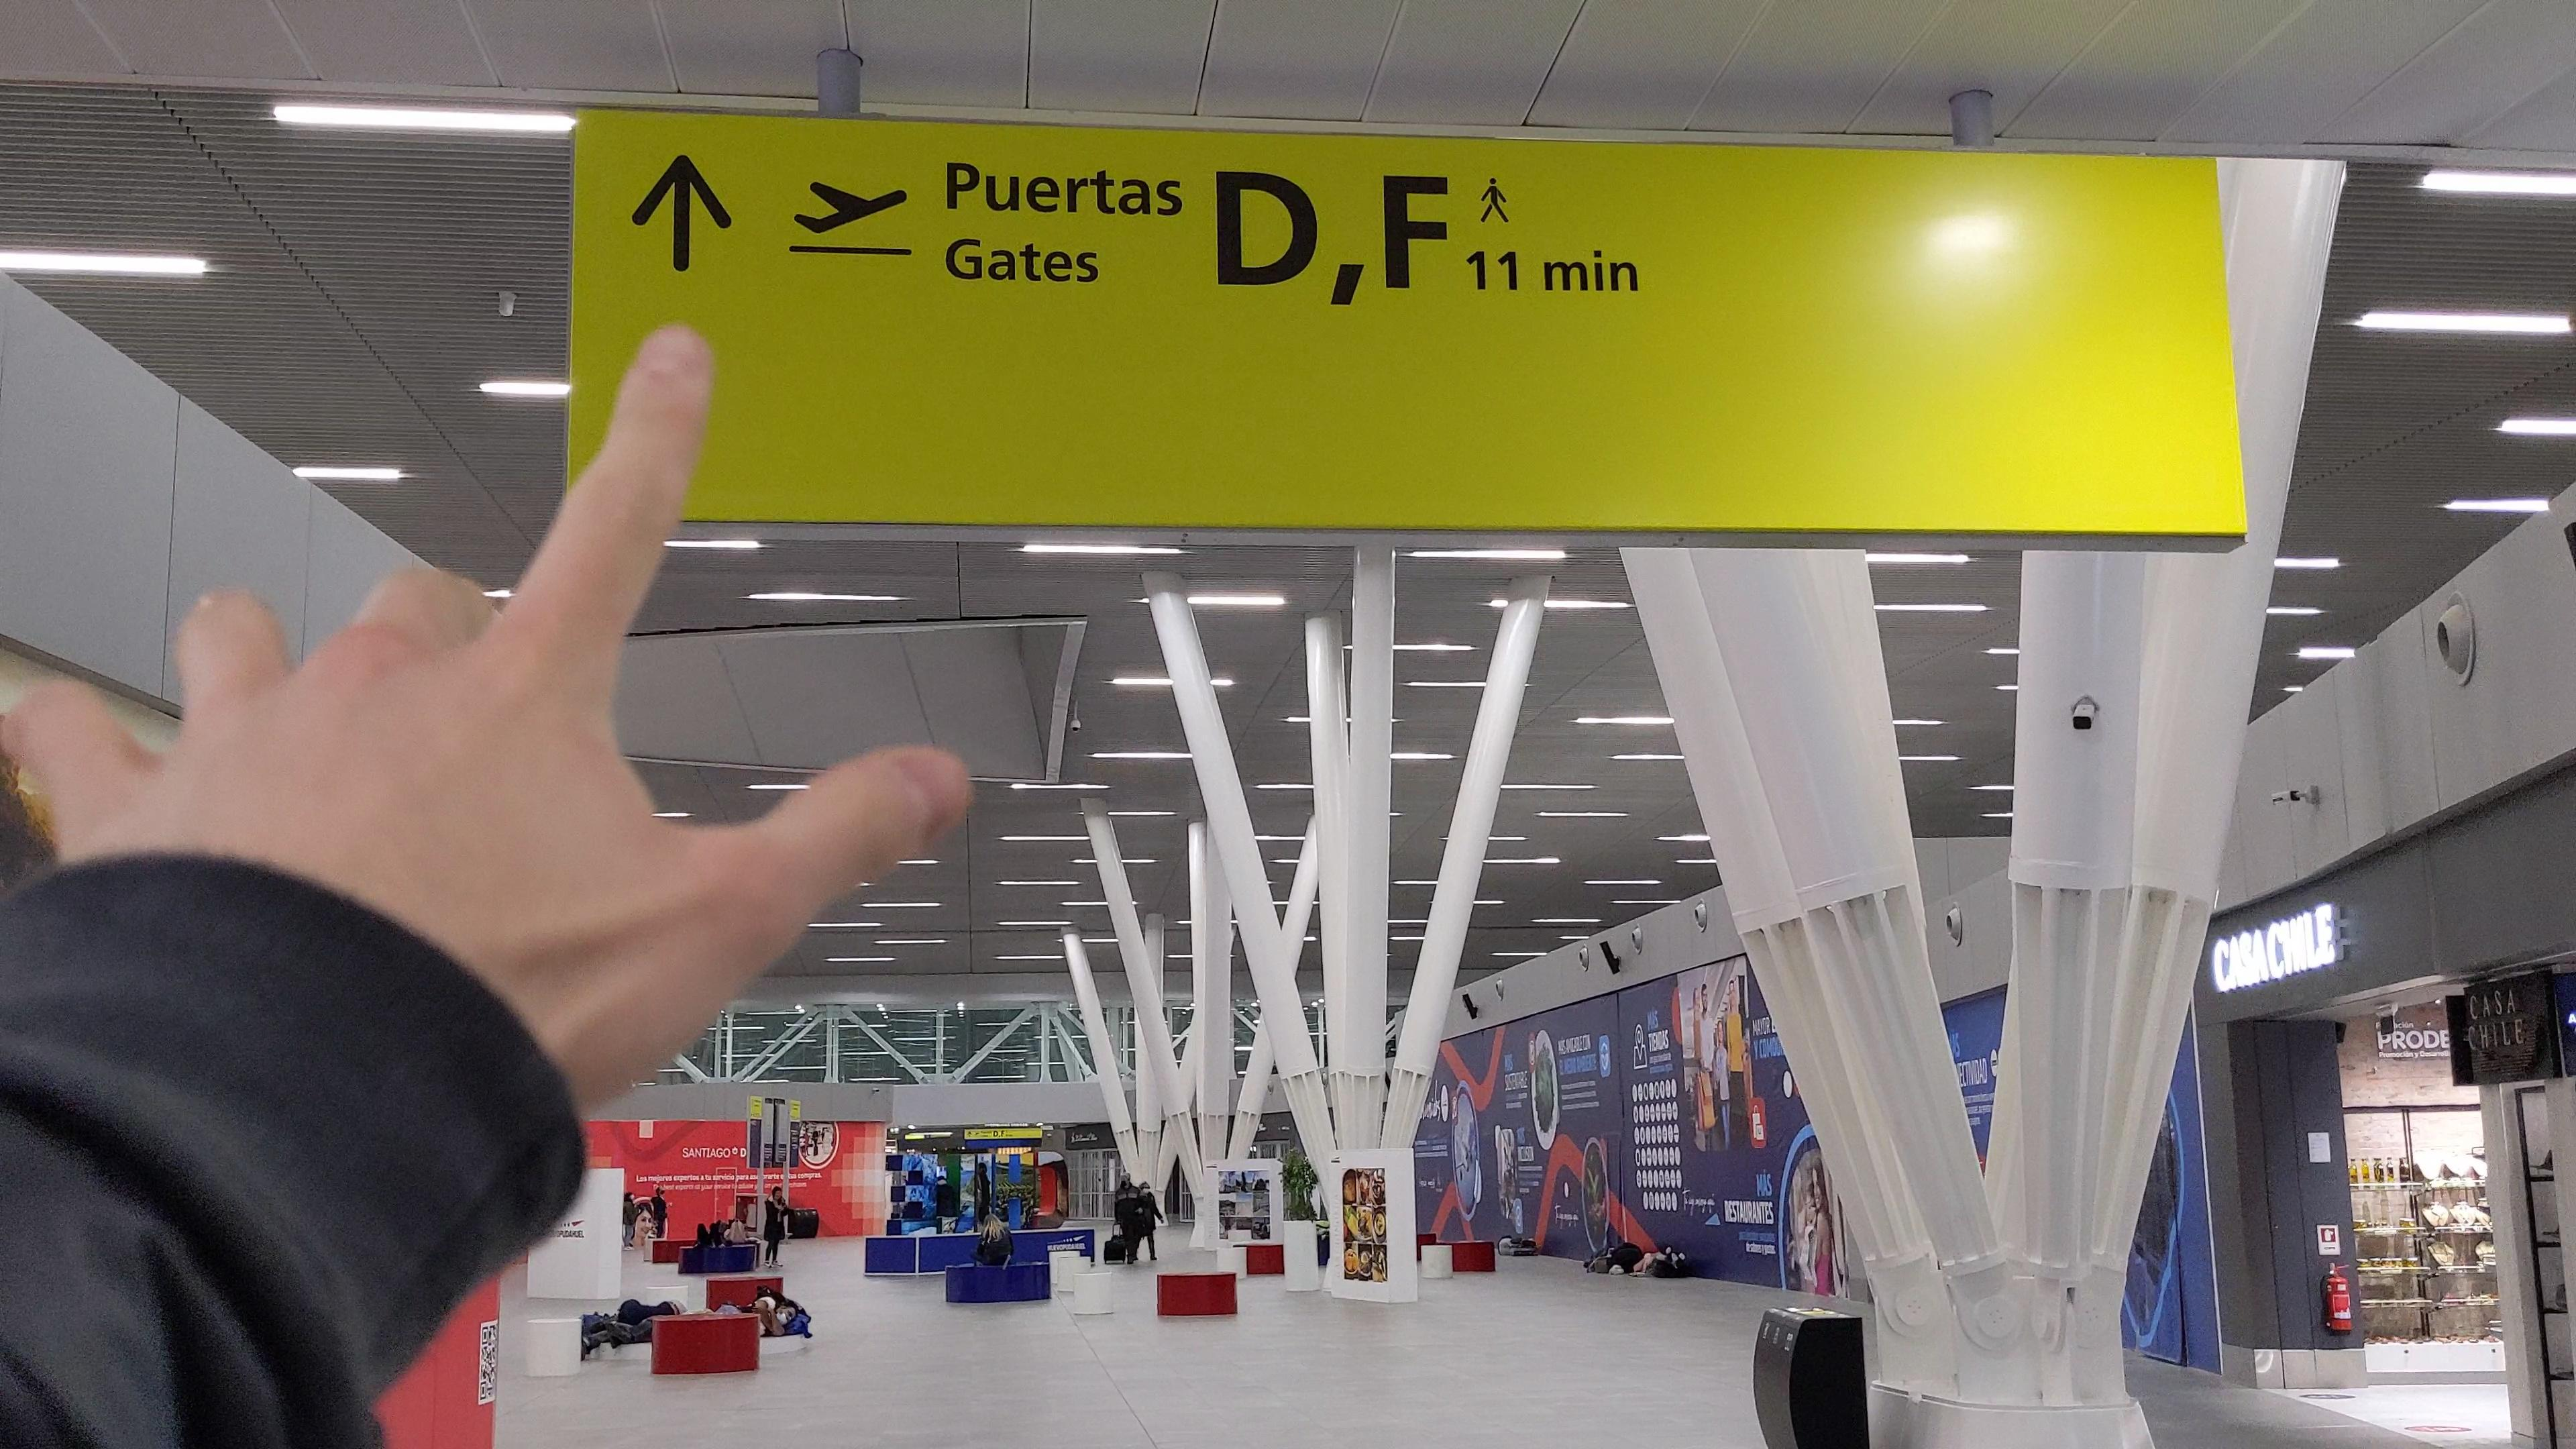airplane symbol: (787, 177, 916, 241)
extinguisher symbol: (2321, 1228, 2335, 1242)
fire-extinguisher: (2318, 1263, 2355, 1334)
thin up arrow: (632, 147, 745, 281)
